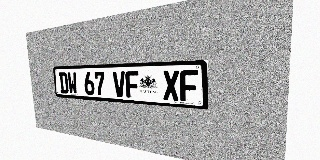6: (83, 72, 95, 95)
7: (94, 71, 106, 96)
D: (59, 72, 69, 94)
F: (180, 70, 198, 102), (125, 71, 139, 98)
V: (113, 71, 126, 97)
W: (67, 72, 78, 94)
X: (163, 70, 180, 101)
